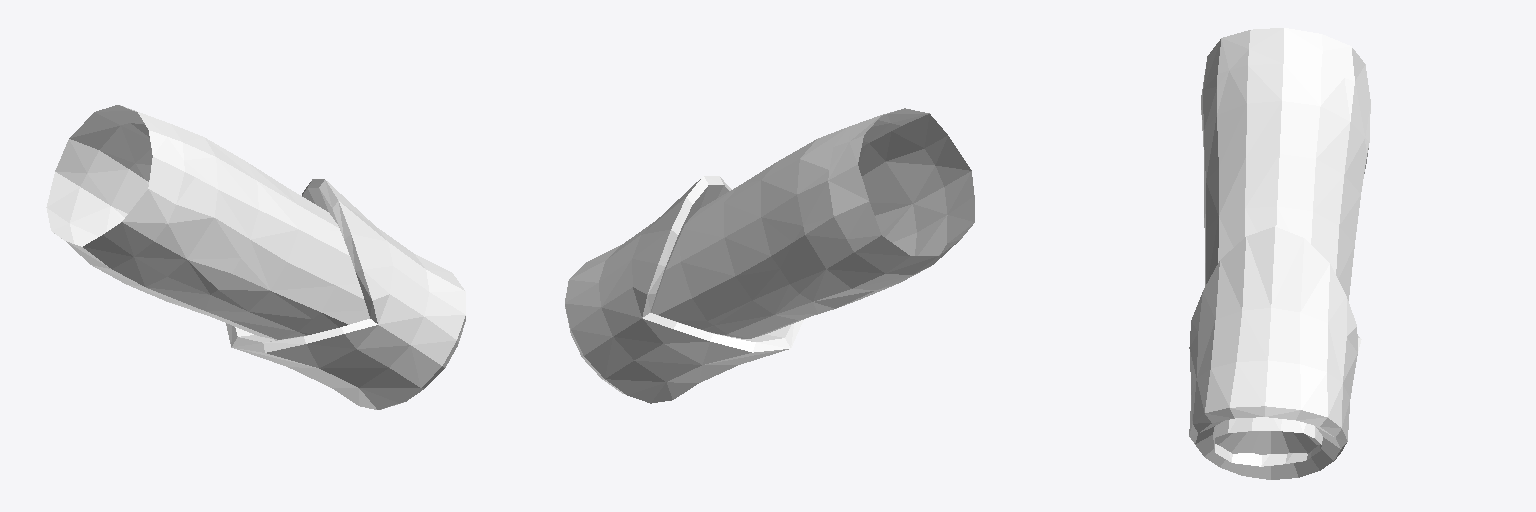
The model's file is Blade_AntebrazoIzq.obj.
3 views of the same model, side by side, from view 1: azimuth 30°, elevation 25°; view 2: azimuth 150°, elevation 25°; view 3: azimuth 270°, elevation 25° (orthographic).
Parts seen in each view (by area): view 1: Antebrazo_Izq; view 2: Antebrazo_Izq; view 3: Antebrazo_Izq.
Boxes of the visible parts, x1=… form: Antebrazo_Izq: x1=46, y1=105, x2=465, y2=409; Antebrazo_Izq: x1=565, y1=108, x2=974, y2=403; Antebrazo_Izq: x1=1189, y1=28, x2=1370, y2=479.
Bounding box in the file's own units: 1.22 × 1.04 × 0.5022.